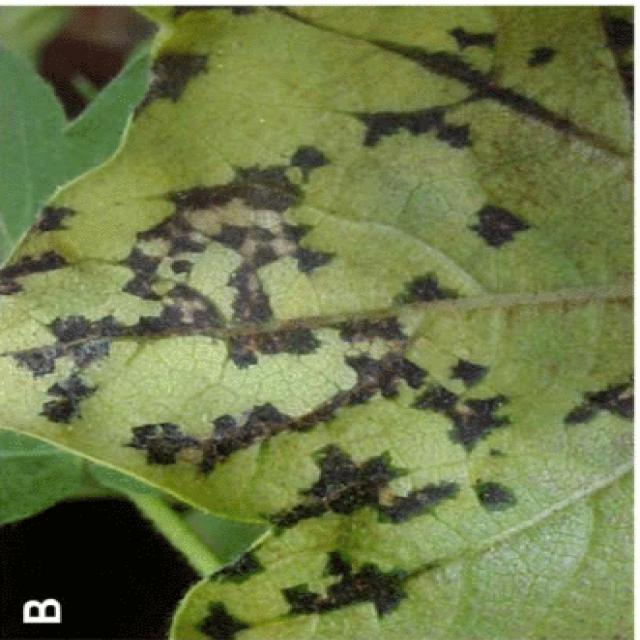Bacterial Blight: (106, 160, 494, 583)
